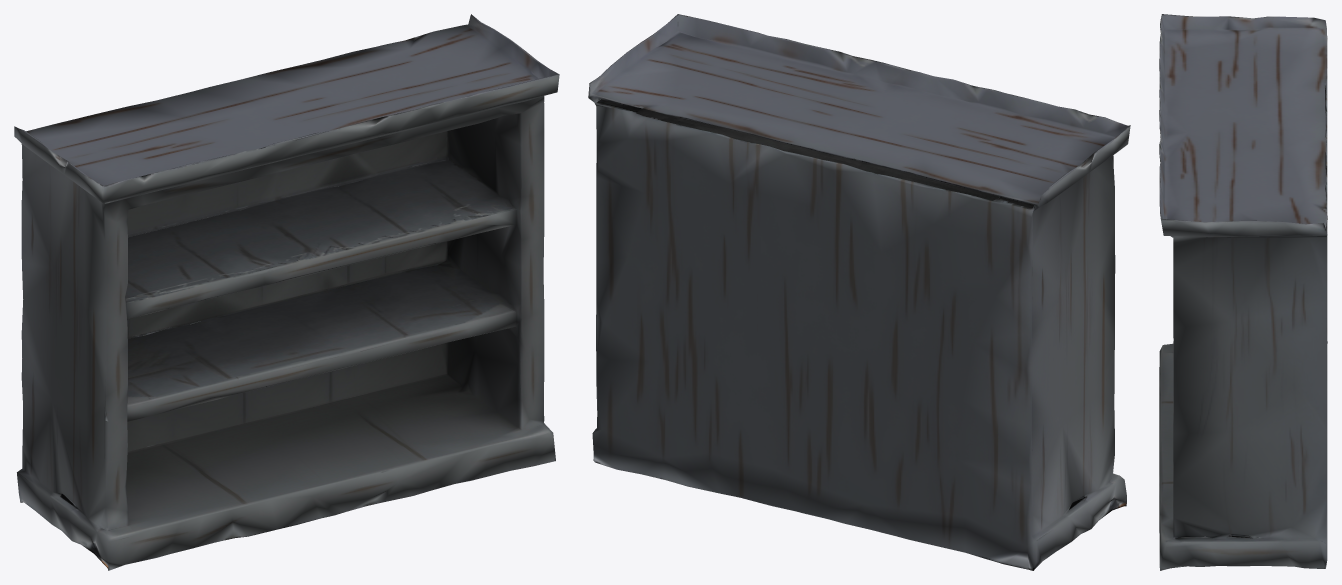
File: Empty_Shelf_1107211745_texture.glb
3 renders of one model, left to right at view 1: azimuth 30°, elevation 25°; view 2: azimuth 150°, elevation 25°; view 3: azimuth 270°, elevation 25°, orthographic. The views are drawn at different scales.
Bounding box in the file's own units: 1.91 × 1.55 × 0.6633.
Materials: 1 (1 with a texture image).
